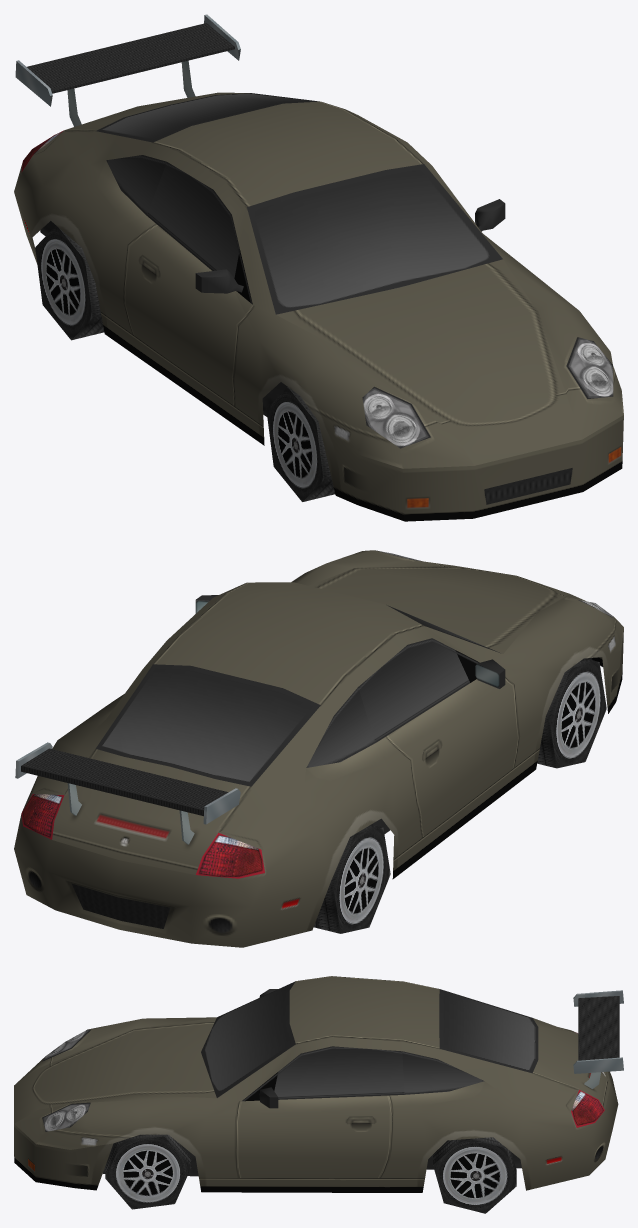
Rendered from HighPerformanceGT_LOD2.fbx.
The picture shows the model from 3 angles, top to bottom: view 1: azimuth 30°, elevation 25°; view 2: azimuth 150°, elevation 25°; view 3: azimuth 270°, elevation 25°; orthographic projection. The views are drawn at different scales.
Parts seen in each view (by area): view 1: Chassis, RR_Wheel, RF_Wheel; view 2: Chassis, RR_Wheel, RF_Wheel; view 3: Chassis, LF_Wheel, LR_Wheel.
Part boxes in pixels (x1,y1,x2,y2): Chassis: (14, 14, 623, 521); RR_Wheel: (35, 225, 104, 340); RF_Wheel: (266, 387, 334, 501); Chassis: (14, 550, 623, 947); RR_Wheel: (314, 824, 390, 933); RF_Wheel: (537, 658, 606, 768); Chassis: (14, 976, 623, 1192); LF_Wheel: (105, 1134, 191, 1209); LR_Wheel: (433, 1137, 516, 1213).
Bounding box in the file's own units: 2.35 × 1.61 × 5.59.
2 materials, 2 textured.
